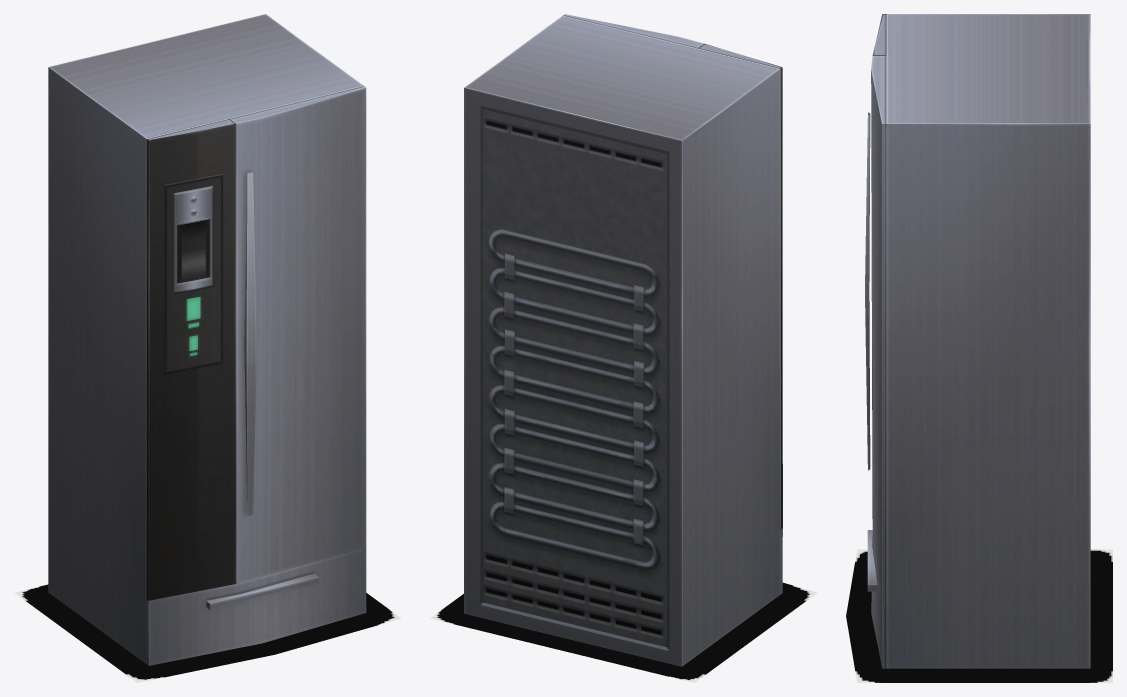
The model's file is jj_ty_bingxiang03.FBX.
3 views of the same model, side by side, from view 1: azimuth 30°, elevation 25°; view 2: azimuth 150°, elevation 25°; view 3: azimuth 270°, elevation 25° (orthographic). The views are drawn at different scales.
Parts seen in each view (by area): view 1: jj_ty_bingxiang03, shadow; view 2: jj_ty_bingxiang03, shadow; view 3: jj_ty_bingxiang03, shadow.
Boxes of the visible parts, x1,y1,x2,y2 form: jj_ty_bingxiang03: (48, 14, 366, 665); shadow: (14, 584, 401, 682); jj_ty_bingxiang03: (464, 14, 782, 666); shadow: (430, 582, 817, 682); jj_ty_bingxiang03: (865, 14, 1090, 668); shadow: (846, 549, 1112, 682).
Size of the model in its own units: 94.72 by 182 by 79.96.
